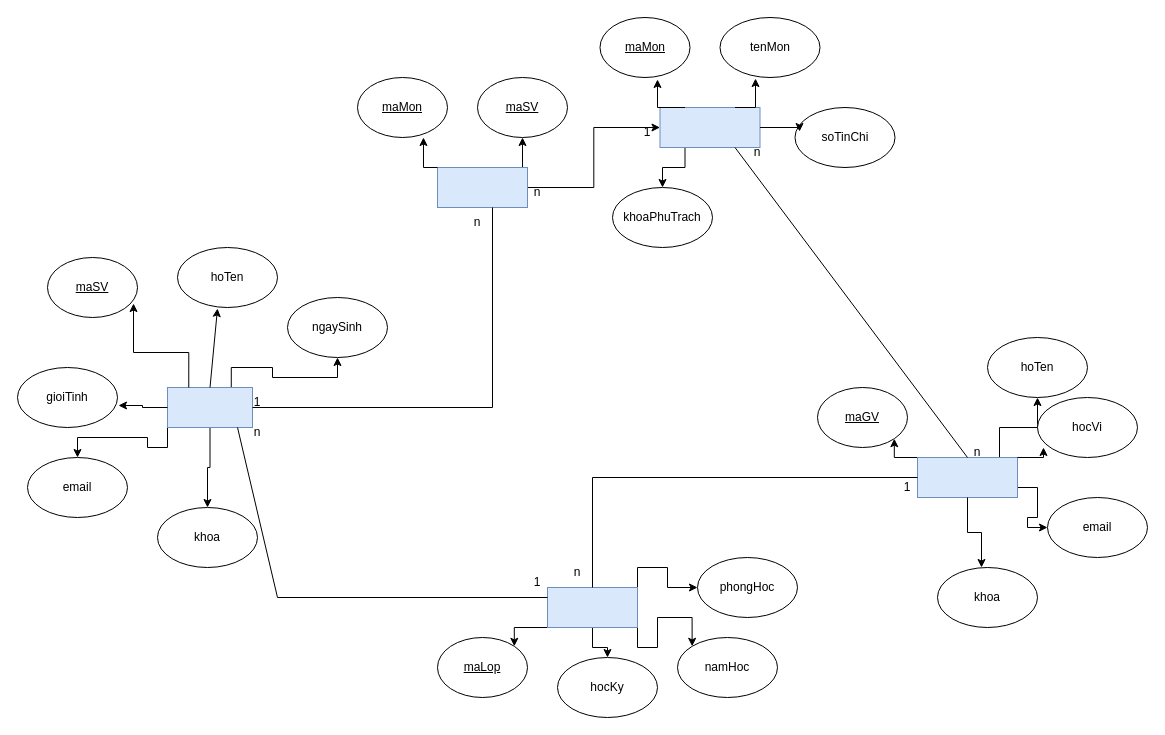
The diagram is 1165 pixels wide and 735 high, and some of its shapes have lost their labels. The shapes that lost their labels are listed below. From the top down, each one's centre as x and y in pixels, then its label:
(709,127): Môn học
(482,187): Đăng ký
(209,407): Sinh viên
(967,477): Giảng viên
(592,607): Lớp học phần
